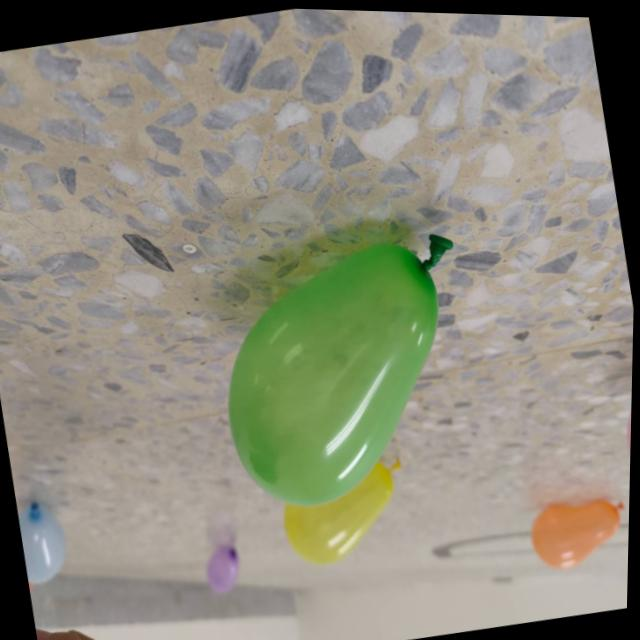other: (200, 218, 497, 521), (277, 447, 420, 570), (529, 491, 632, 573), (18, 497, 75, 588), (205, 542, 248, 595), (620, 384, 634, 499)
